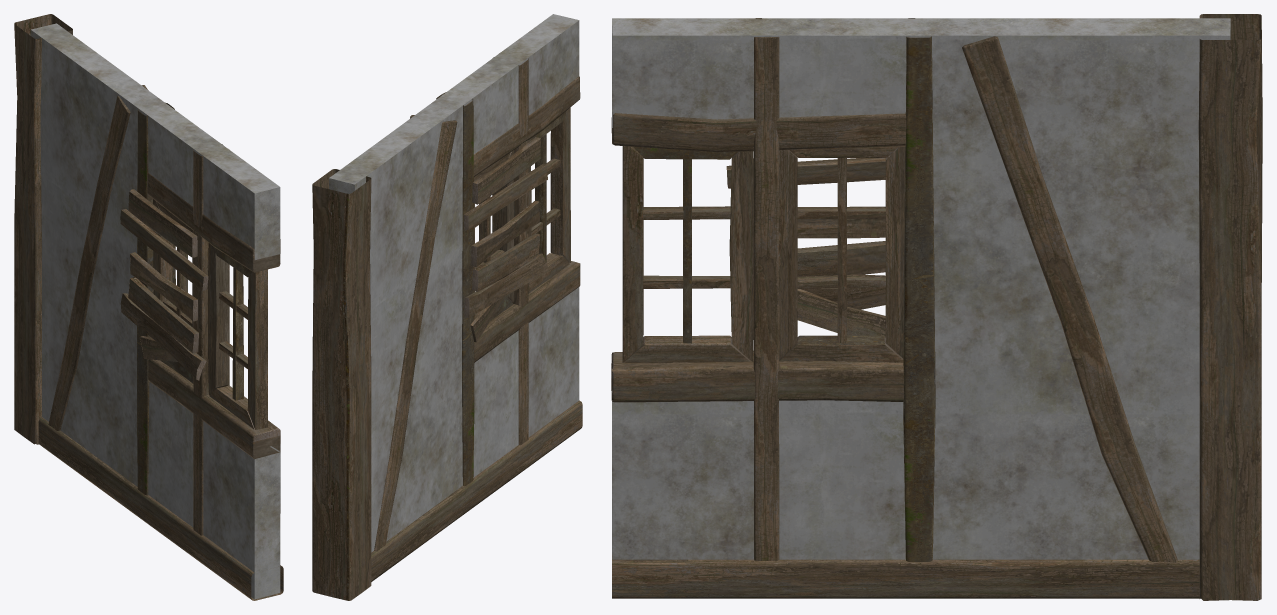
File: SM_Wall39.fbx
The picture shows the model from 3 angles, left to right: view 1: azimuth 30°, elevation 25°; view 2: azimuth 150°, elevation 25°; view 3: azimuth 270°, elevation 25°; orthographic projection. The views are drawn at different scales.
Visible parts, largest first — view 1: SM_Wall39_LOD0; view 2: SM_Wall39_LOD0; view 3: SM_Wall39_LOD0.
Boxes of the visible parts, box(x1,y1,x2,y2) form: SM_Wall39_LOD0: box(14, 14, 283, 600); SM_Wall39_LOD0: box(312, 14, 582, 600); SM_Wall39_LOD0: box(611, 14, 1262, 600).
Size of the model in its own units: 36.13 by 316 by 301.
